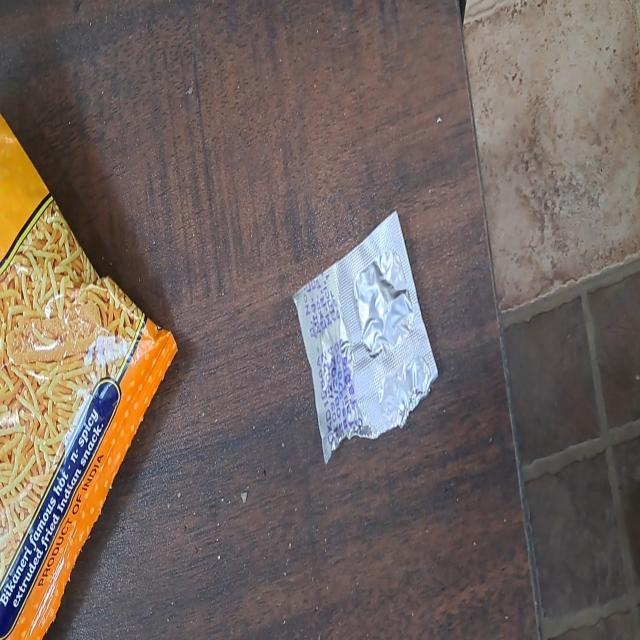Anorganik: (1, 113, 178, 640), (292, 212, 436, 460)
